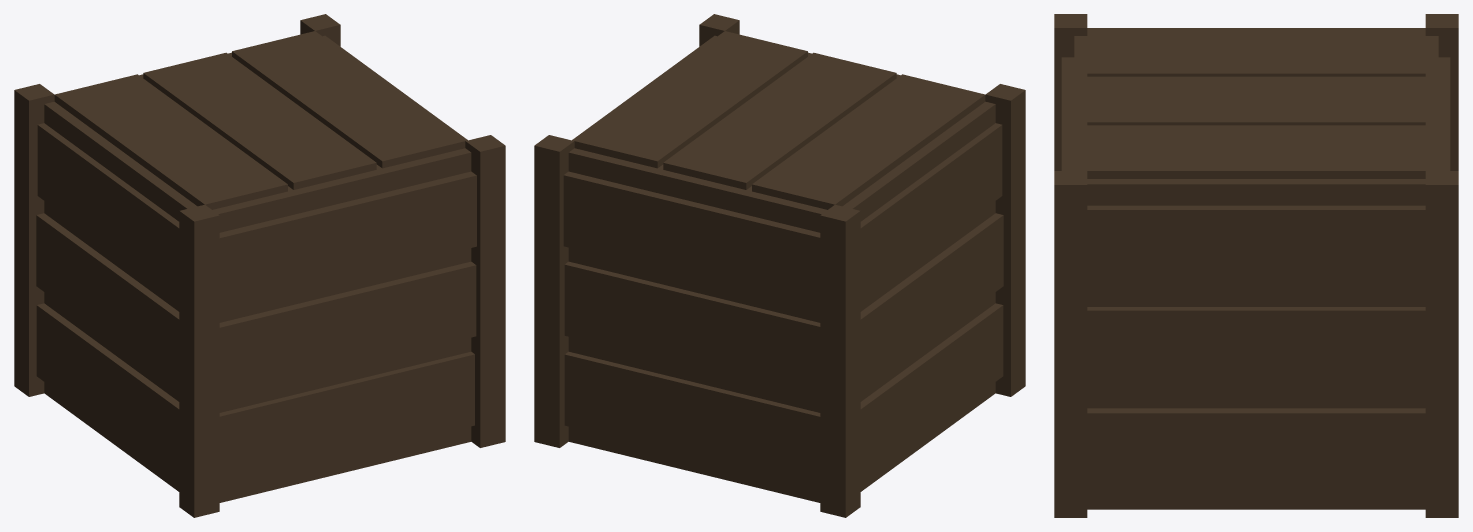
File: crate-wood.glb
The picture shows the model from 3 angles, left to right: view 1: azimuth 30°, elevation 25°; view 2: azimuth 150°, elevation 25°; view 3: azimuth 270°, elevation 25°; orthographic projection. The views are drawn at different scales.
Visible parts, largest first — view 1: crateWood; view 2: crateWood; view 3: crateWood.
Part boxes in pixels (x1,y1,x2,y2): crateWood: (14,14,505,517); crateWood: (534,14,1025,517); crateWood: (1054,14,1458,517).
Size of the model in its own units: 0.55 by 0.5 by 0.55.
